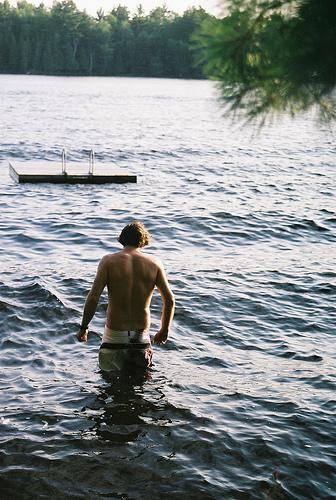swimmer: (74, 219, 176, 375)
